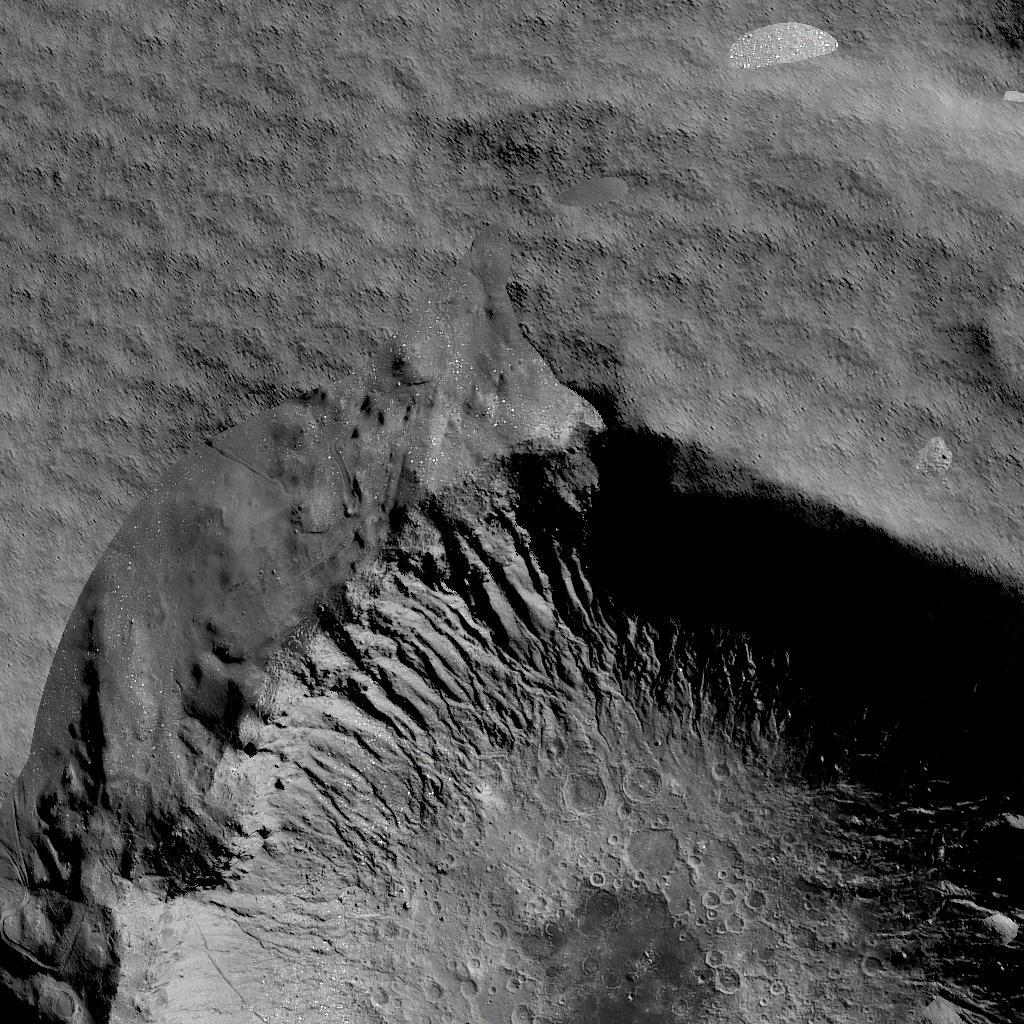Crater: (13, 314, 1024, 1019), (934, 0, 1024, 127)
Plan surface: (14, 5, 918, 290)
